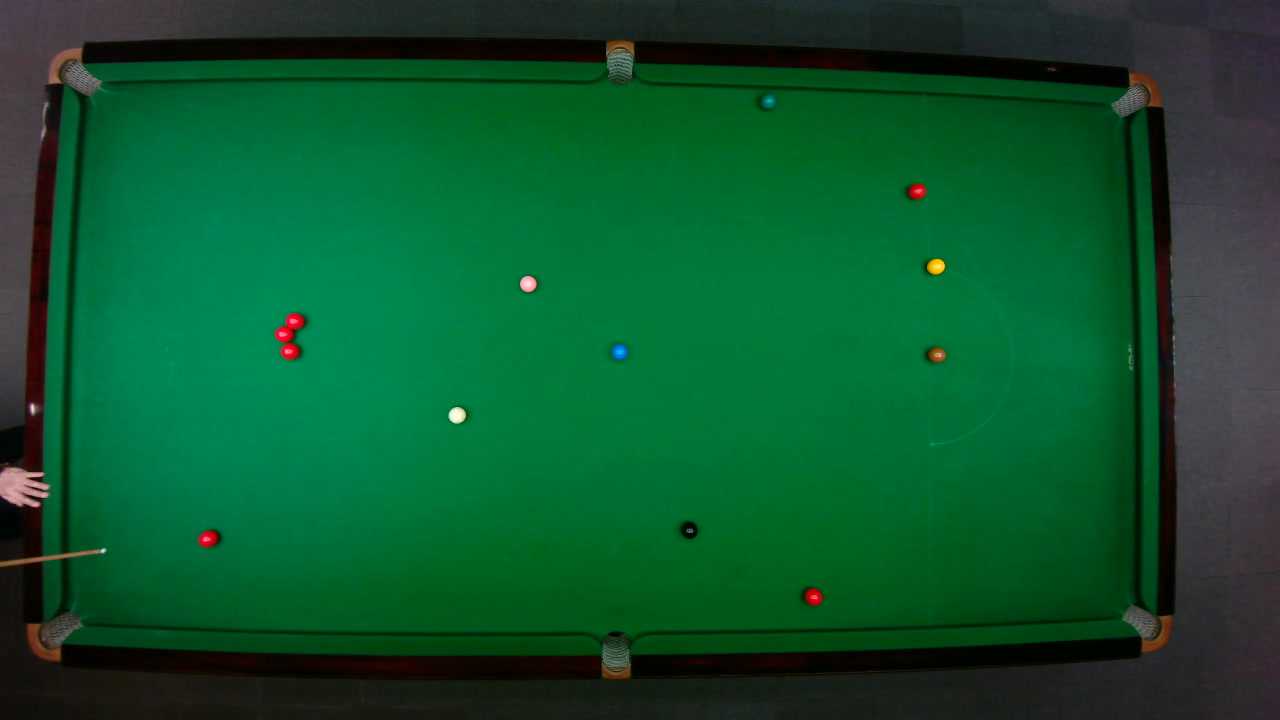bag: (25, 609, 84, 661), (45, 46, 102, 96), (1119, 603, 1171, 652), (1108, 71, 1161, 118), (600, 629, 629, 680), (605, 38, 633, 85)
black: (679, 520, 697, 538)
blue: (609, 342, 628, 360)
brown: (926, 346, 946, 362)
cue: (0, 546, 108, 567)
green: (759, 93, 776, 109)
pink: (518, 274, 537, 292)
red: (196, 528, 219, 547), (803, 586, 823, 606), (284, 311, 305, 330), (906, 182, 927, 200), (279, 342, 300, 360), (273, 324, 293, 342)
white: (446, 405, 467, 424)
yellow: (925, 256, 946, 274)
zone: (927, 266, 1013, 445)
